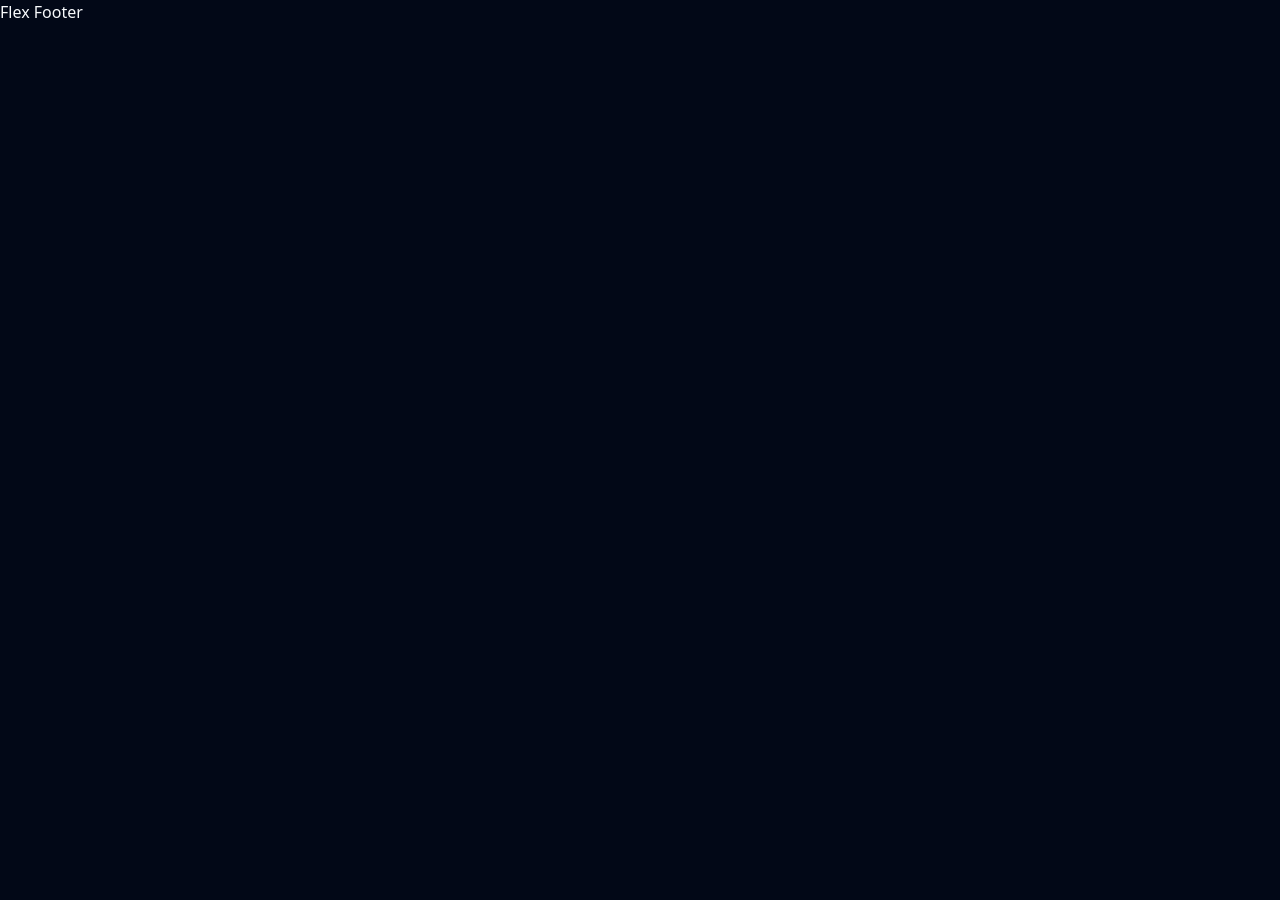
Test: Dialog组件系统 › DialogFooter › 应该支持flex布局对齐
Click the button "Flex Footer": point(41, 12) x1=0 y1=0 x2=83 y2=24
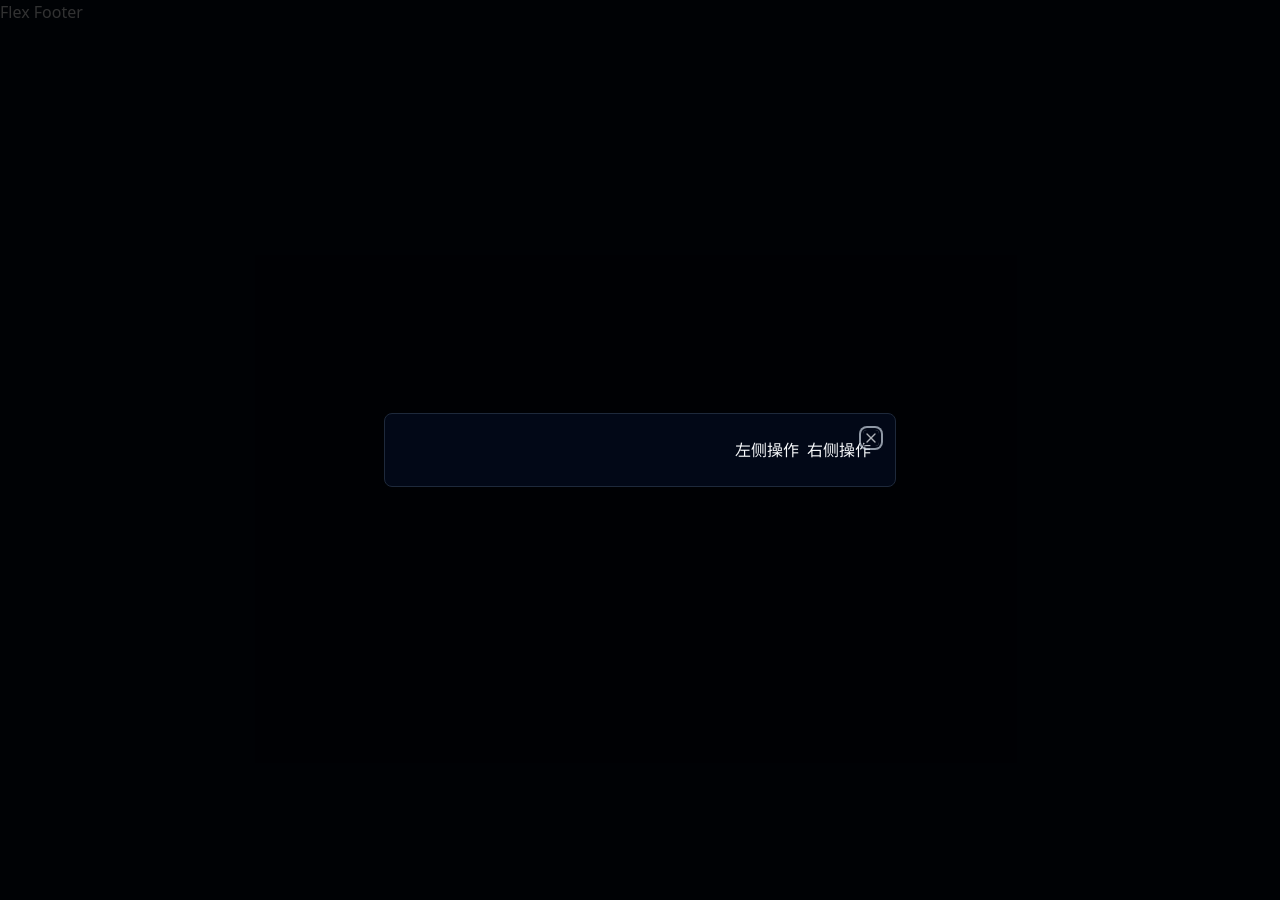
Expected: the text "左侧操作" is shown, x1=735 y1=438 x2=799 y2=462
Expected: the text "右侧操作" is shown, x1=807 y1=438 x2=871 y2=462
